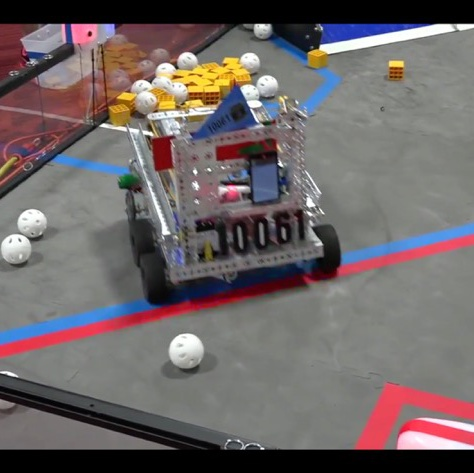robot: (115, 81, 347, 305)
